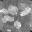people: (0, 14, 14, 23), (8, 5, 19, 16), (20, 7, 32, 16), (14, 21, 22, 30), (1, 8, 9, 15)
